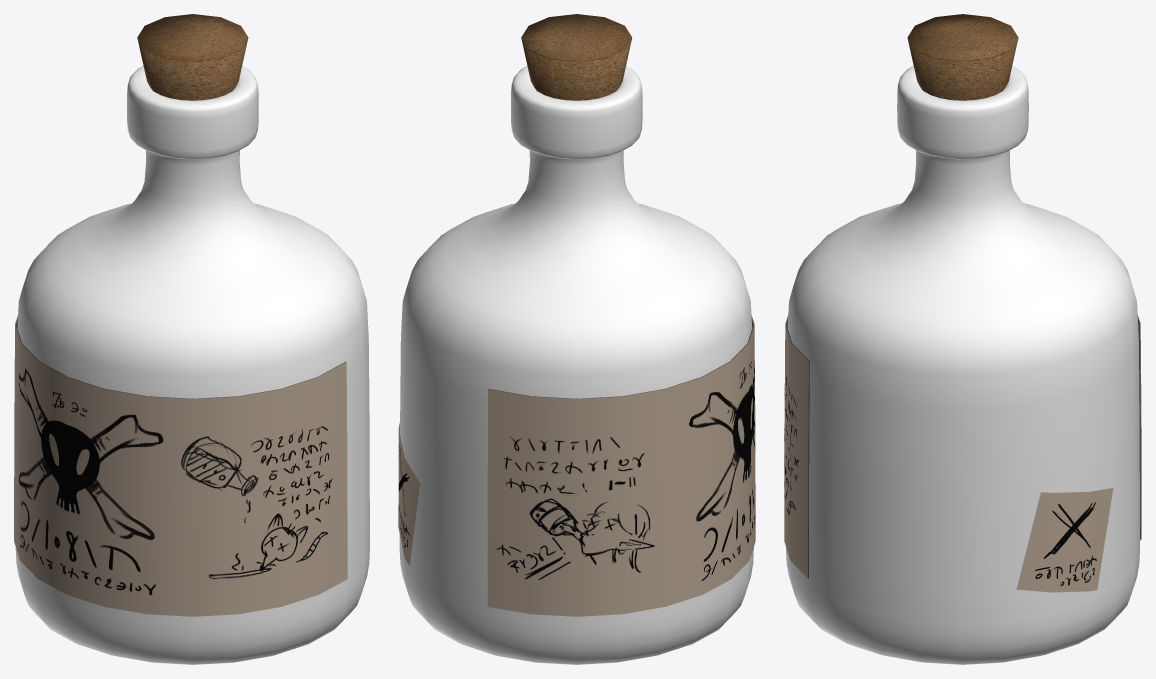
File: Poison Bottle.glb
3 views of the same model, side by side, from view 1: azimuth 30°, elevation 25°; view 2: azimuth 150°, elevation 25°; view 3: azimuth 270°, elevation 25° (orthographic).
Parts seen in each view (by area): view 1: Object_7, Object_3, Object_8; view 2: Object_7, Object_3, Object_8, Object_5; view 3: Object_7, Object_8, Object_5, Object_3, Object_4.
Boxes of the visible parts, x1,y1,x2,y2 form: Object_7: [15, 66, 369, 664]; Object_3: [14, 315, 347, 616]; Object_8: [137, 14, 248, 100]; Object_7: [399, 66, 753, 664]; Object_3: [487, 315, 755, 616]; Object_8: [521, 14, 632, 100]; Object_5: [398, 422, 419, 565]; Object_7: [786, 66, 1139, 664]; Object_8: [907, 14, 1018, 100]; Object_5: [1016, 488, 1113, 592]; Object_3: [784, 315, 1141, 578]; Object_4: [786, 319, 1140, 578].
Bounding box in the file's own units: 19.11 × 33.31 × 19.2.
Materials: 7 (3 with a texture image).
